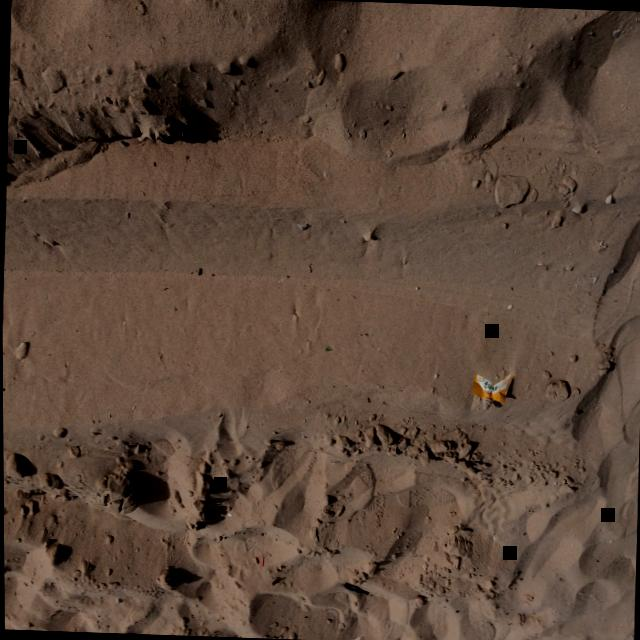Plastic straw: (342, 583, 367, 595)
Squeezable tube: (471, 373, 513, 412)
